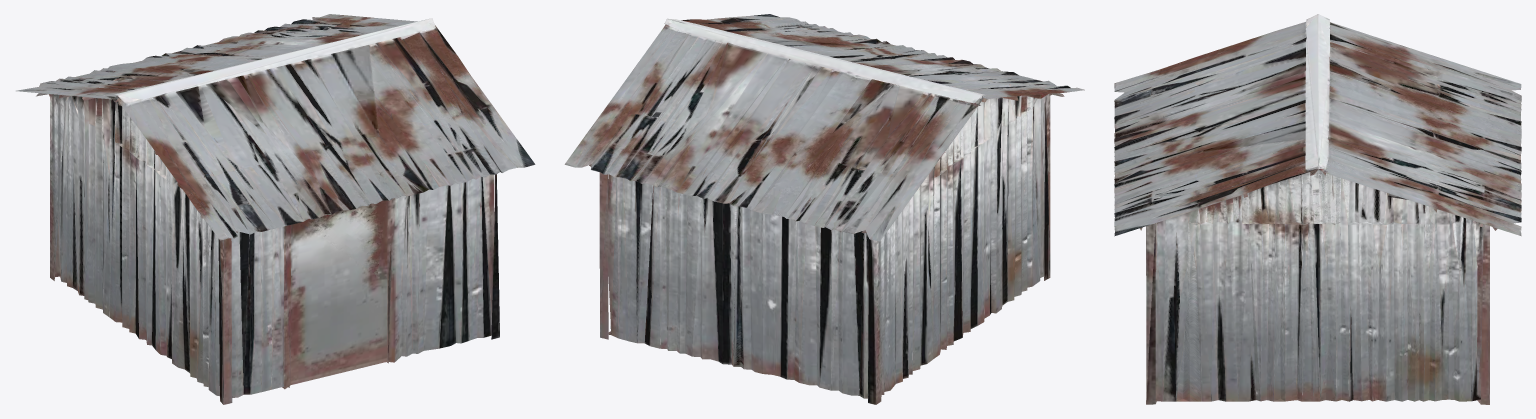
File: shed_metal.glb
3 views of the same model, side by side, from view 1: azimuth 30°, elevation 25°; view 2: azimuth 150°, elevation 25°; view 3: azimuth 270°, elevation 25° (orthographic).
Parts seen in each view (by area): view 1: Mesh_0; view 2: Mesh_0; view 3: Mesh_0.
Boxes of the visible parts, x1,y1,x2,y2 form: Mesh_0: [16, 14, 535, 404]; Mesh_0: [564, 14, 1084, 404]; Mesh_0: [1114, 14, 1521, 404].
Bounding box in the file's own units: 1.68 × 1.28 × 1.9.
Materials: 1 (1 with a texture image).
